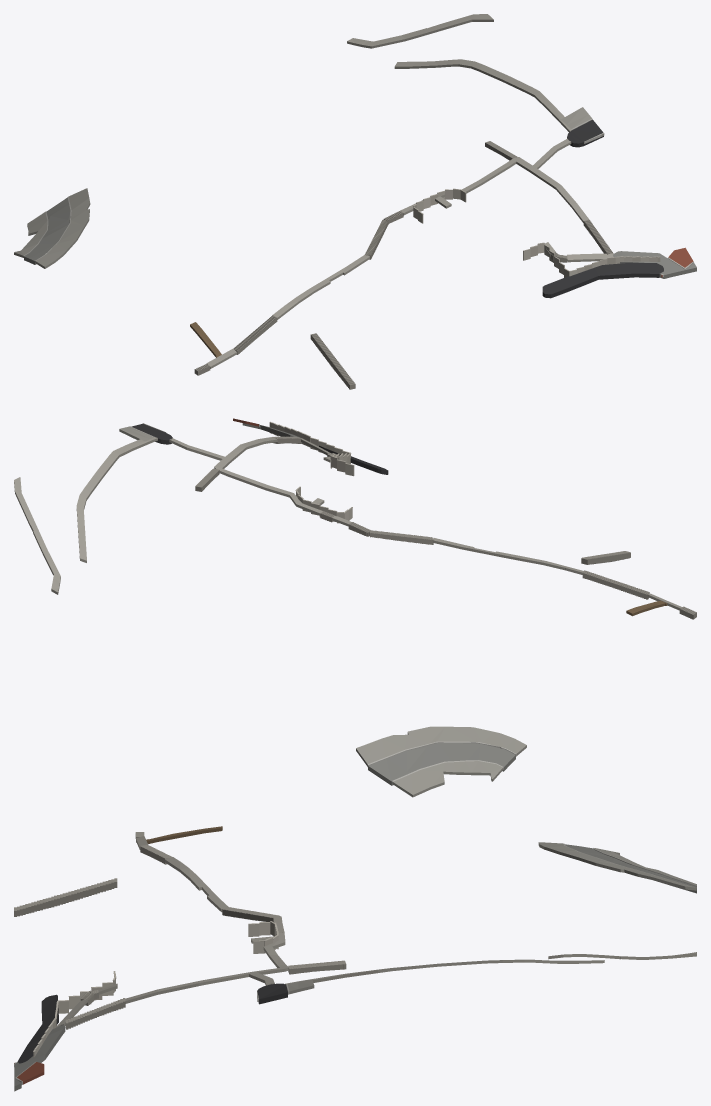
3 views of the same model, one above another, from view 1: azimuth 30°, elevation 25°; view 2: azimuth 150°, elevation 25°; view 3: azimuth 270°, elevation 25° (orthographic). The views are drawn at different scales.
Size of the model in its own units: 147 by 46.13 by 146.
